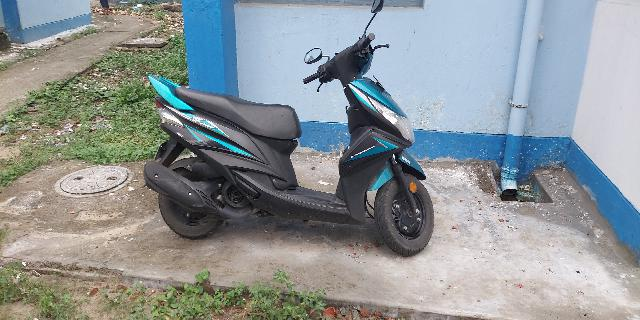Motorbike: (143, 2, 439, 259)
